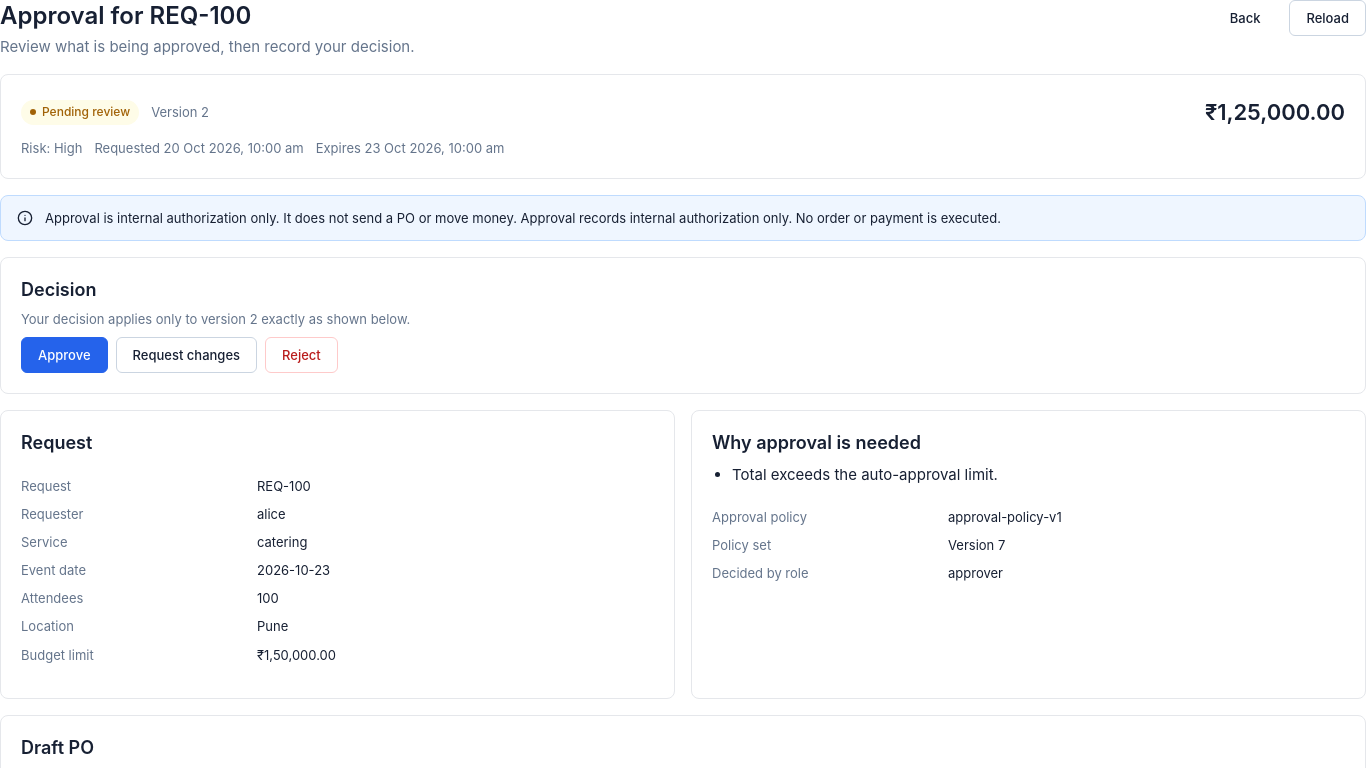
Test case: ApprovalDetailPage › renders a 409 conflict message and reloads
The image size is (1366, 768).
Step 1. Click the button "Request changes" → (186, 355), box [116, 337, 257, 373]
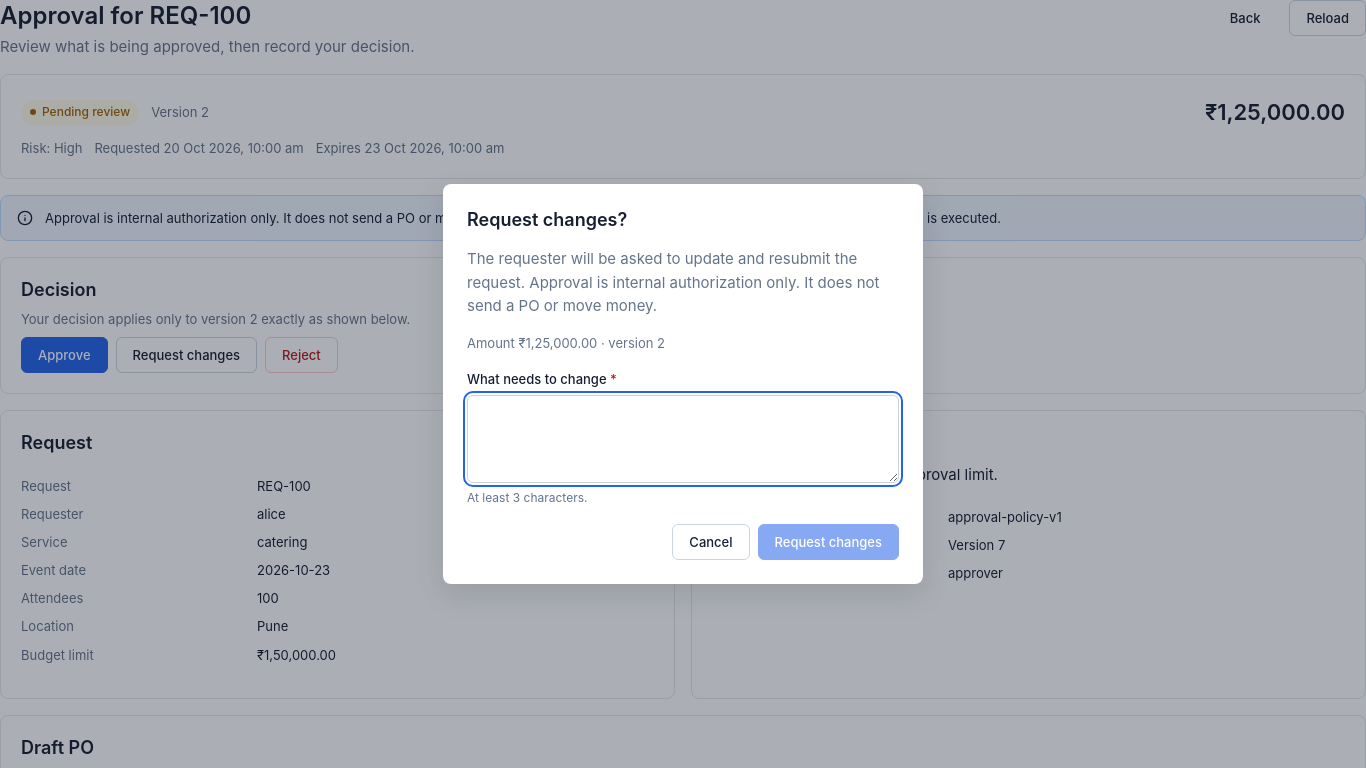
Step 2. Type "Fewer people" into the text box labelled "What needs to change" → (683, 439), box [467, 395, 899, 483]
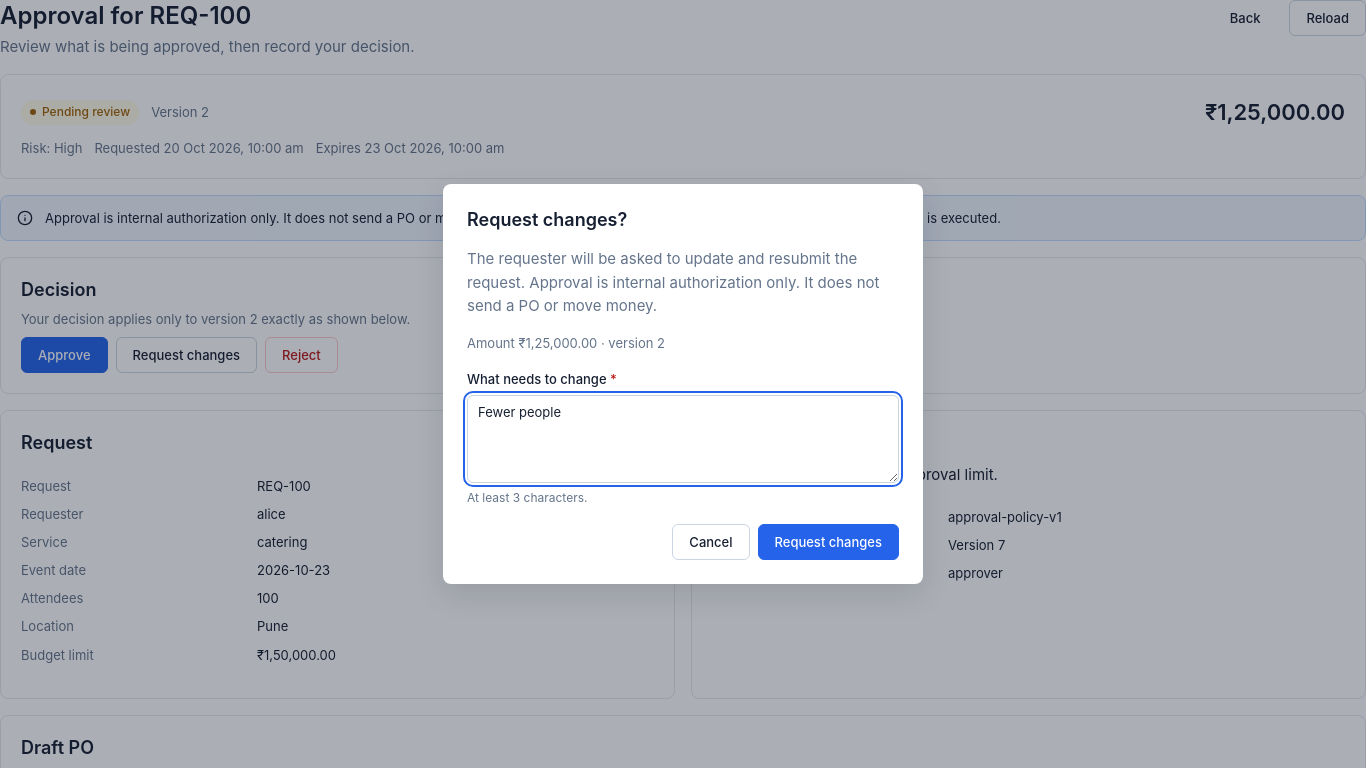
Step 3. Click the button "Request changes" → (828, 542), box [758, 524, 899, 560]
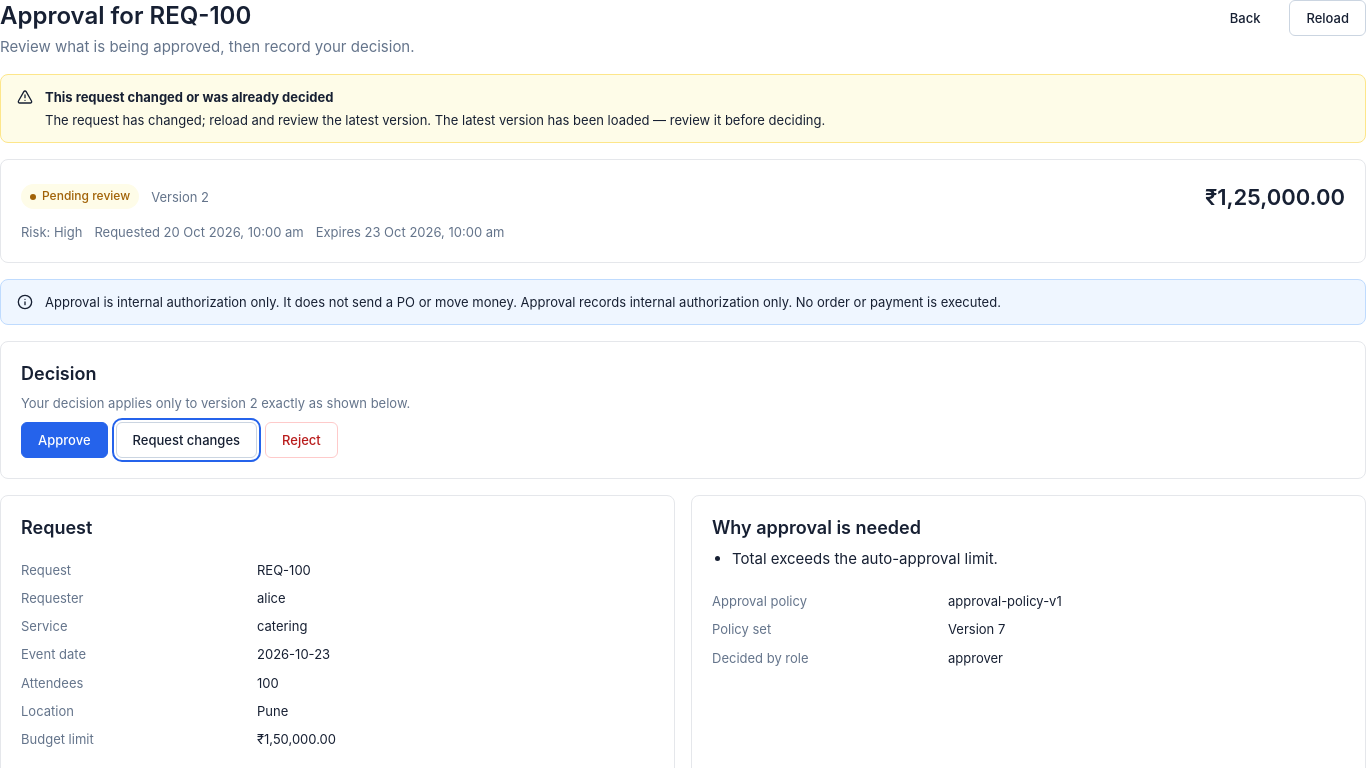
Result: the text "This request changed or was already decided" is shown at [45, 89, 333, 105]
Result: the text "The request has changed; reload and review the latest version." is shown at [45, 112, 825, 128]
Result: the dialog is gone
